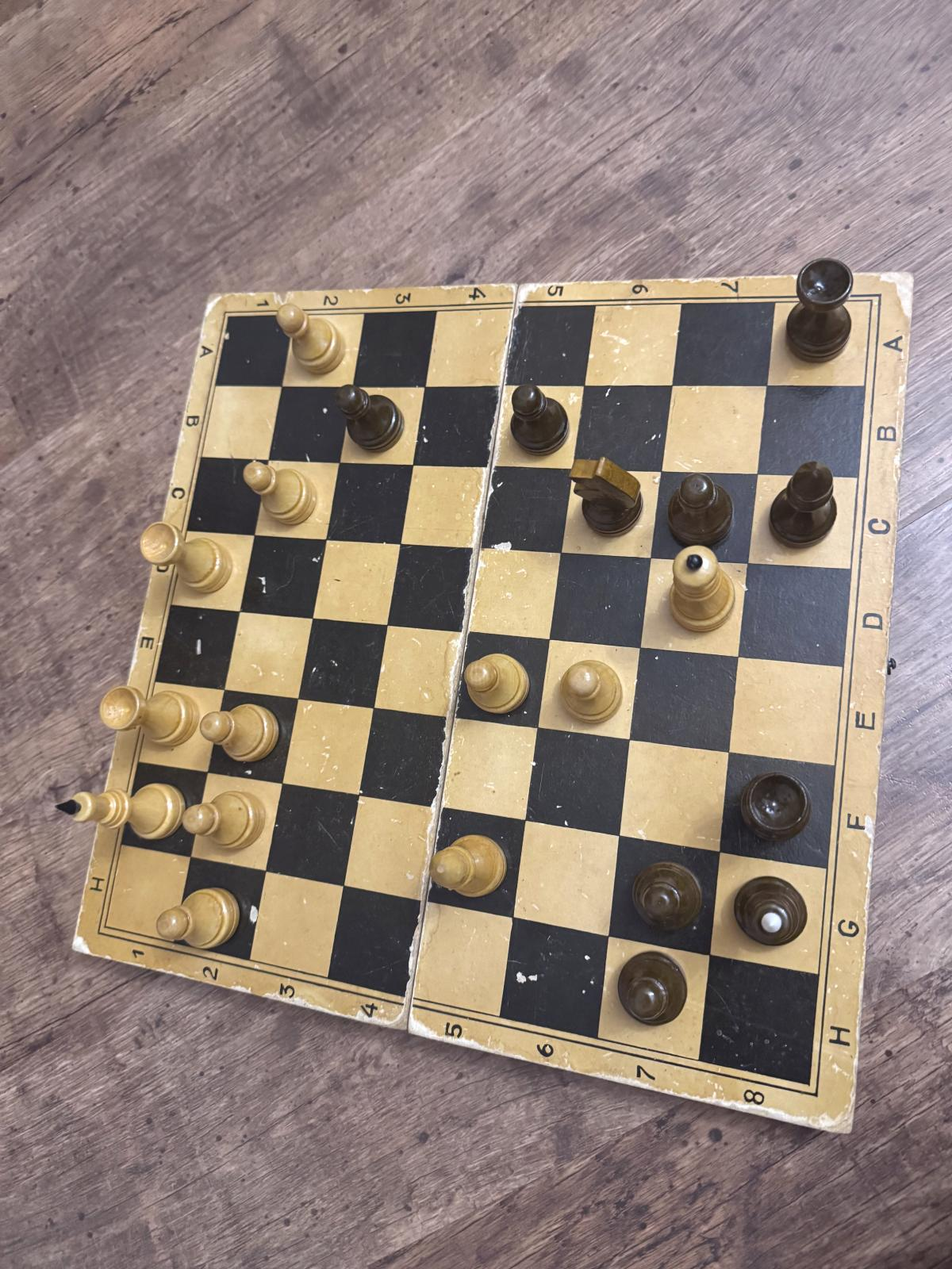Chess-Board: (105, 300, 872, 1085)
